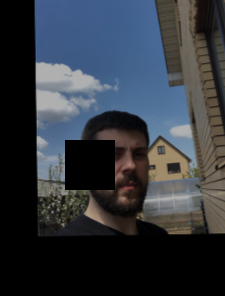without_mask: (98, 139, 150, 215)
